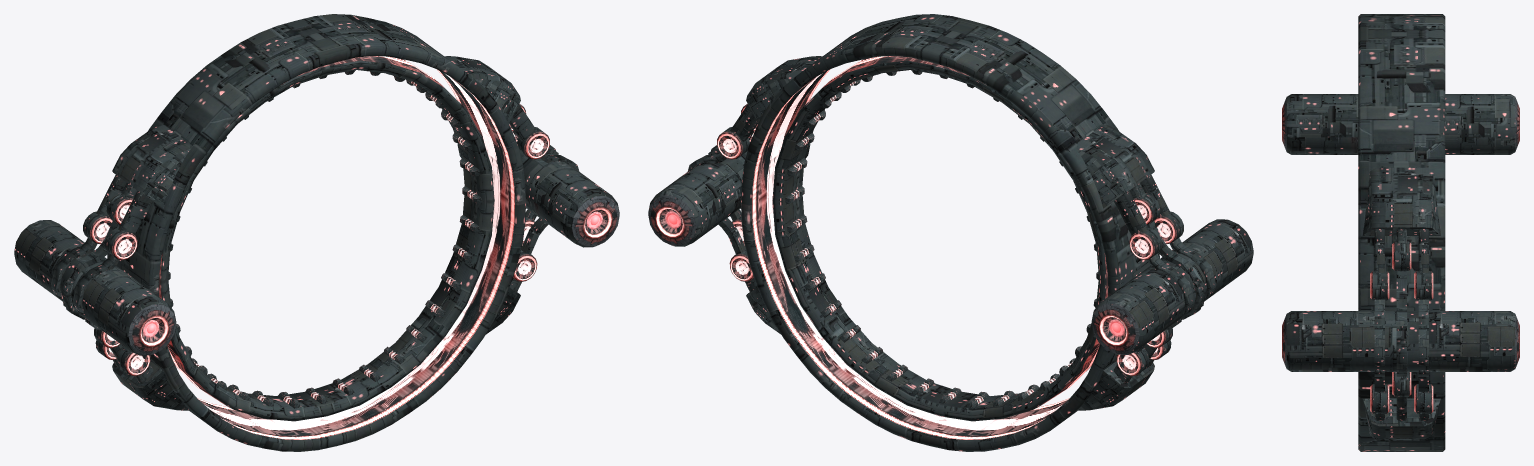
File: xenon_Gate.gltf
3 views of the same model, side by side, from view 1: azimuth 30°, elevation 25°; view 2: azimuth 150°, elevation 25°; view 3: azimuth 270°, elevation 25° (orthographic).
Parts seen in each view (by area): view 1: Main_Gate, Inner_Ring; view 2: Main_Gate, Inner_Ring; view 3: Main_Gate.
Boxes of the visible parts, bbox=[...] form: Main_Gate: bbox=[14, 14, 619, 451]; Inner_Ring: bbox=[159, 56, 494, 421]; Main_Gate: bbox=[648, 14, 1253, 451]; Inner_Ring: bbox=[772, 56, 1107, 421]; Main_Gate: bbox=[1282, 14, 1519, 451].
Size of the model in its own units: 1.73 by 1.3 by 0.7061.
1 material, 1 textured.
